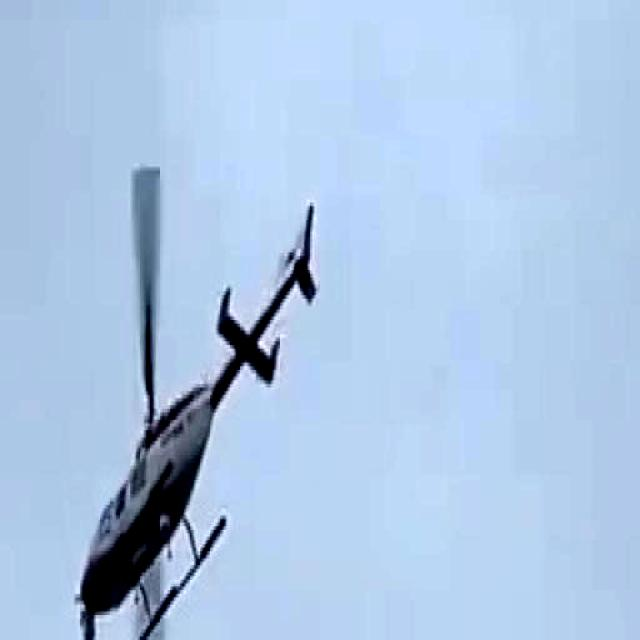drone: (72, 158, 310, 640)
